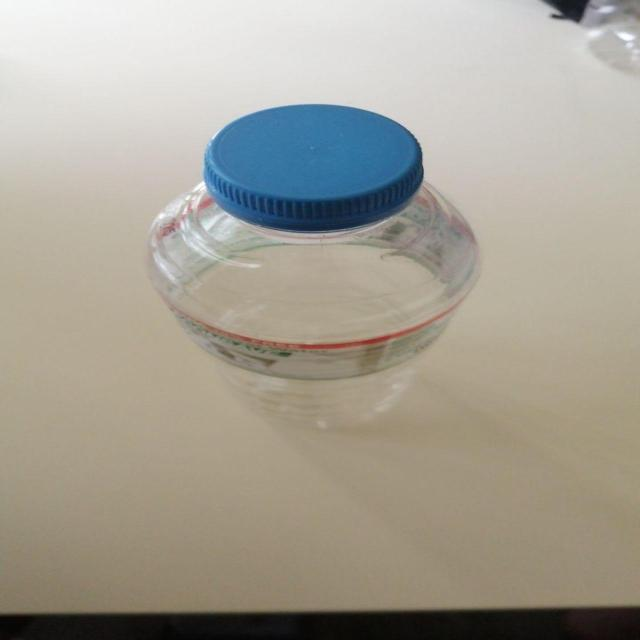Pet_Bottle: (163, 105, 477, 430)
